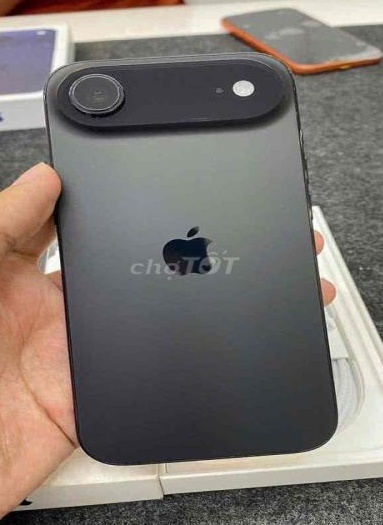scratch: (65, 68, 127, 116)
